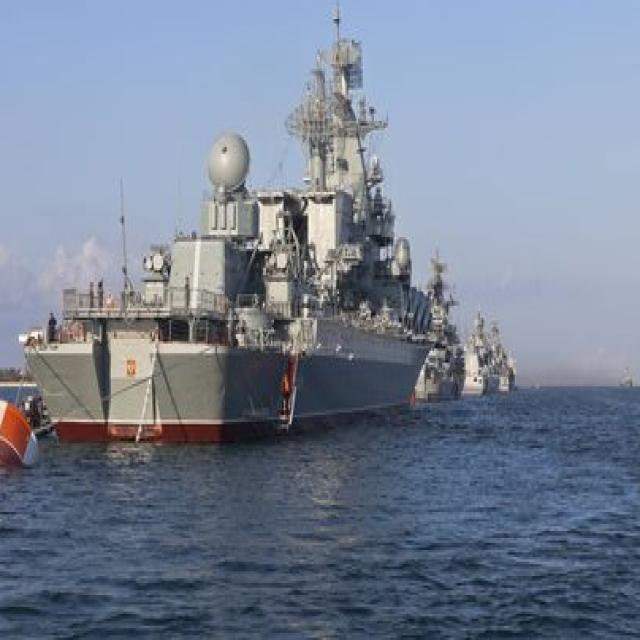navalvessels: (26, 53, 466, 441), (417, 215, 464, 392), (466, 303, 496, 408)
